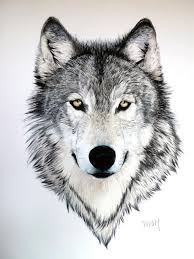Lobo: (30, 9, 185, 227)
